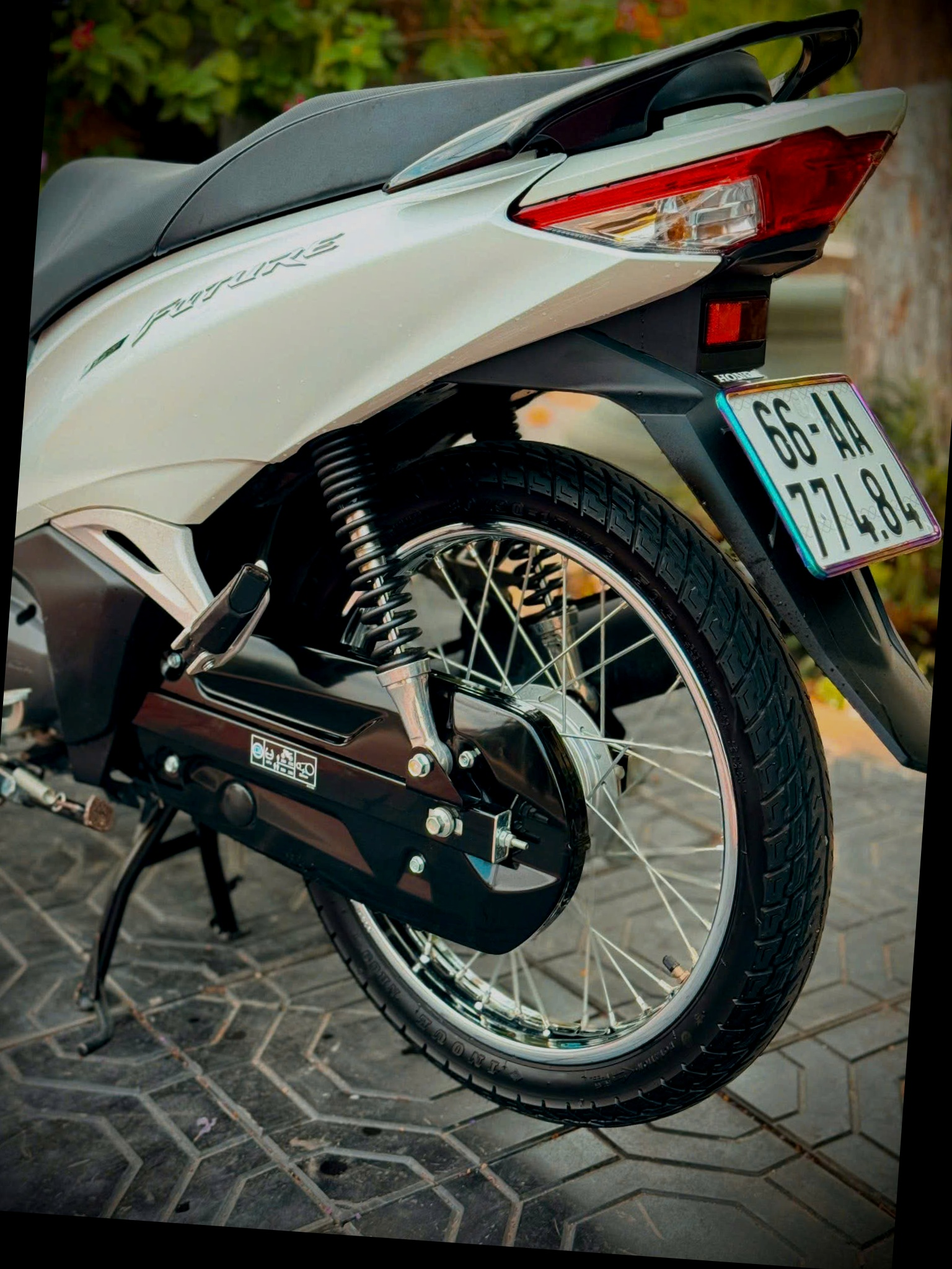Bien-so: (694, 367, 925, 582)
